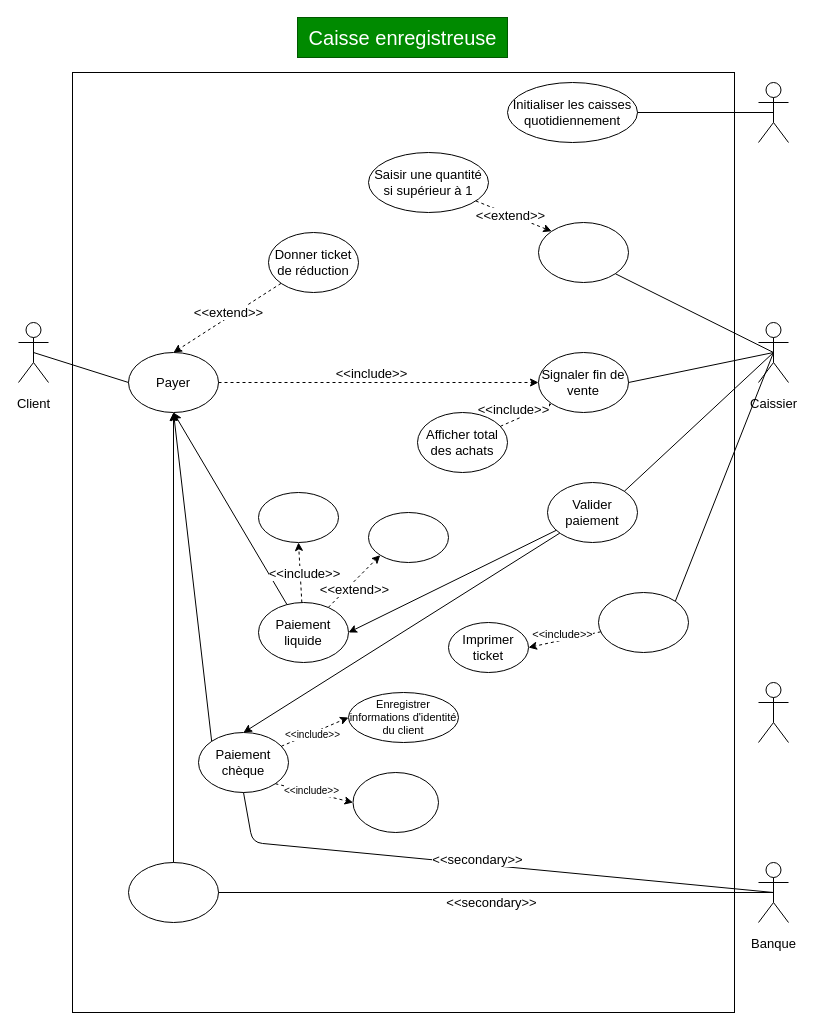
Image size: 829x1030. Some labels were removed from this diagram. The box of each missing label's shape, as (x1, y1, x2, y2) in pixels:
Encaisser somme: (258, 492, 338, 542)
Enregistrer des articles: (538, 222, 628, 282)
Finaliser la vente: (598, 592, 688, 652)
Imprimer montant sur le chèque: (352, 772, 438, 832)
Paiement CB: (128, 862, 218, 922)
Rendre monnaie: (368, 512, 448, 562)
Responsable magasin: (758, 82, 788, 142)
Système gestion des stocks: (758, 682, 788, 742)
